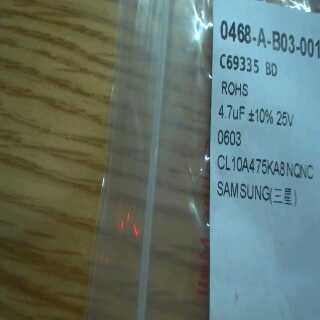4.7uF: (218, 101, 247, 120)
